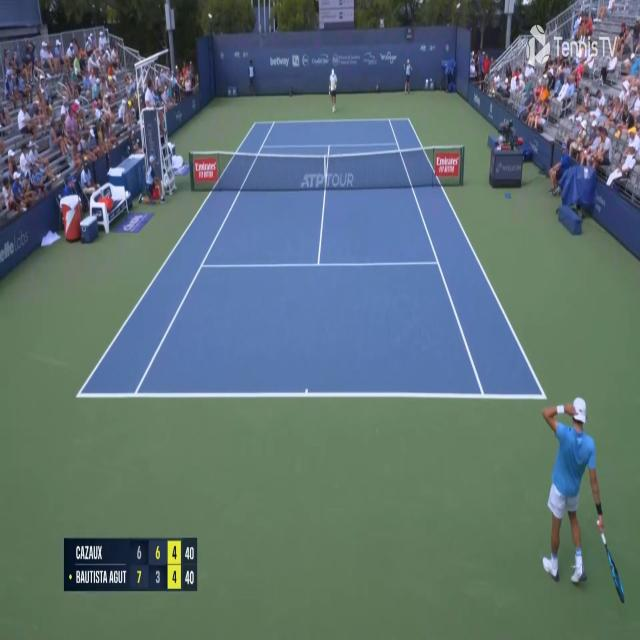tennis-player: (538, 392, 608, 589), (328, 65, 339, 113)
